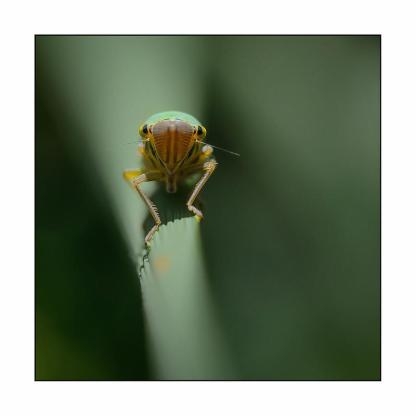Green-Leafhopper: (119, 99, 228, 274)
